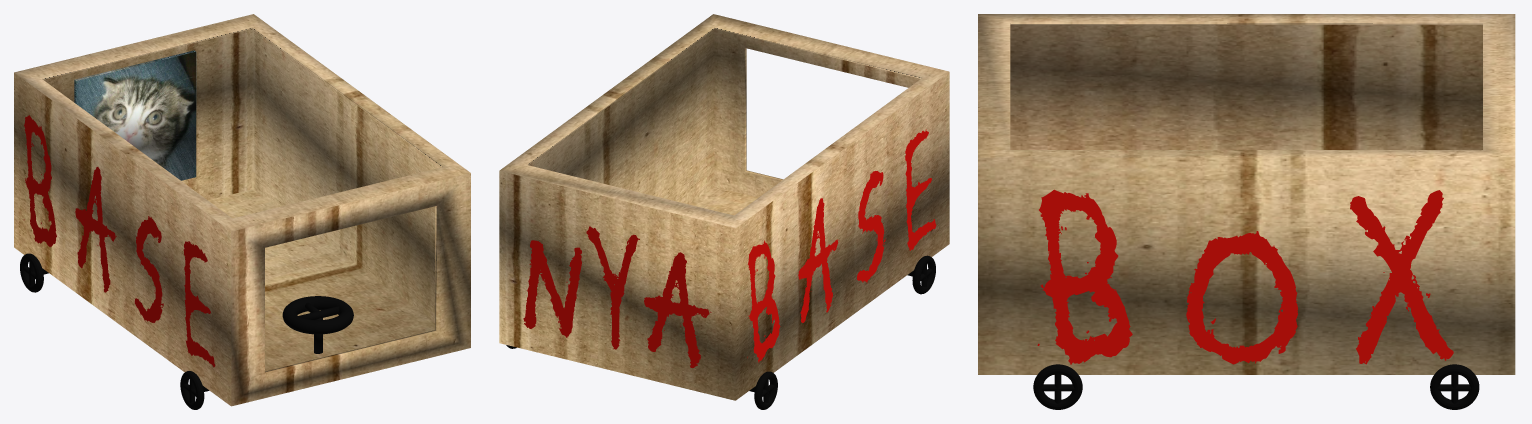
Rendered from CarBeta.fbx.
3 views of the same model, side by side, from view 1: azimuth 30°, elevation 25°; view 2: azimuth 150°, elevation 25°; view 3: azimuth 270°, elevation 25° (orthographic). The views are drawn at different scales.
Parts seen in each view (by area): view 1: Box, TextNya, RightFrontWheel, RightBackWheel; view 2: Box, TextNya, RightBackWheel, RightFrontWheel; view 3: Box, TextNya, LeftFrontWheel, LeftBackWheel.
Boxes of the visible parts, x1,y1,x2,y2 form: Box: (14, 14, 470, 406); TextNya: (23, 115, 215, 367); RightFrontWheel: (180, 371, 204, 409); RightBackWheel: (20, 253, 43, 292); Box: (499, 14, 949, 400); TextNya: (523, 129, 936, 367); RightBackWheel: (754, 371, 777, 409); RightFrontWheel: (912, 255, 935, 294); Box: (978, 14, 1515, 374); TextNya: (1037, 189, 1453, 364); LeftFrontWheel: (1033, 364, 1082, 409); LeftBackWheel: (1430, 364, 1479, 409).
Bounding box in the file's own units: 677 × 493 × 980.
